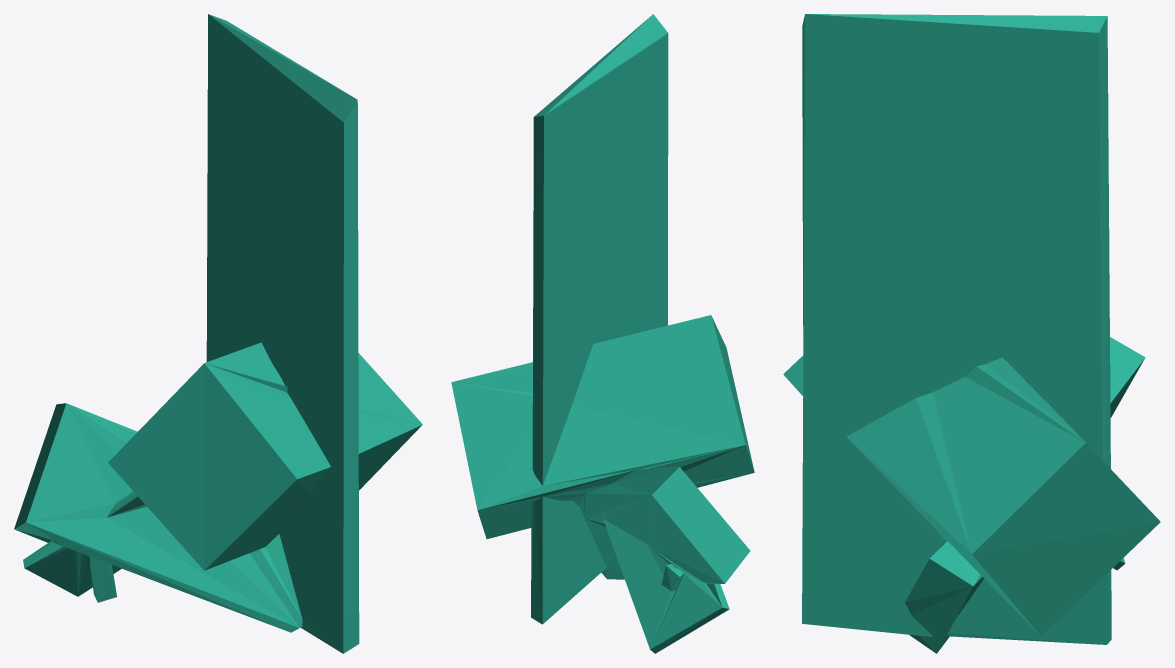
3 views of the same model, side by side, from view 1: azimuth 30°, elevation 25°; view 2: azimuth 150°, elevation 25°; view 3: azimuth 270°, elevation 25° (orthographic). The views are drawn at different scales.
Visible parts, largest first — view 1: 347_Cube.1416; view 2: 347_Cube.1416; view 3: 347_Cube.1416.
Boxes of the visible parts, x1=… form: 347_Cube.1416: x1=14, y1=14, x2=422, y2=653; 347_Cube.1416: x1=451, y1=14, x2=754, y2=653; 347_Cube.1416: x1=783, y1=14, x2=1160, y2=653.
Size of the model in its own units: 8.33 by 12.74 by 6.77.
